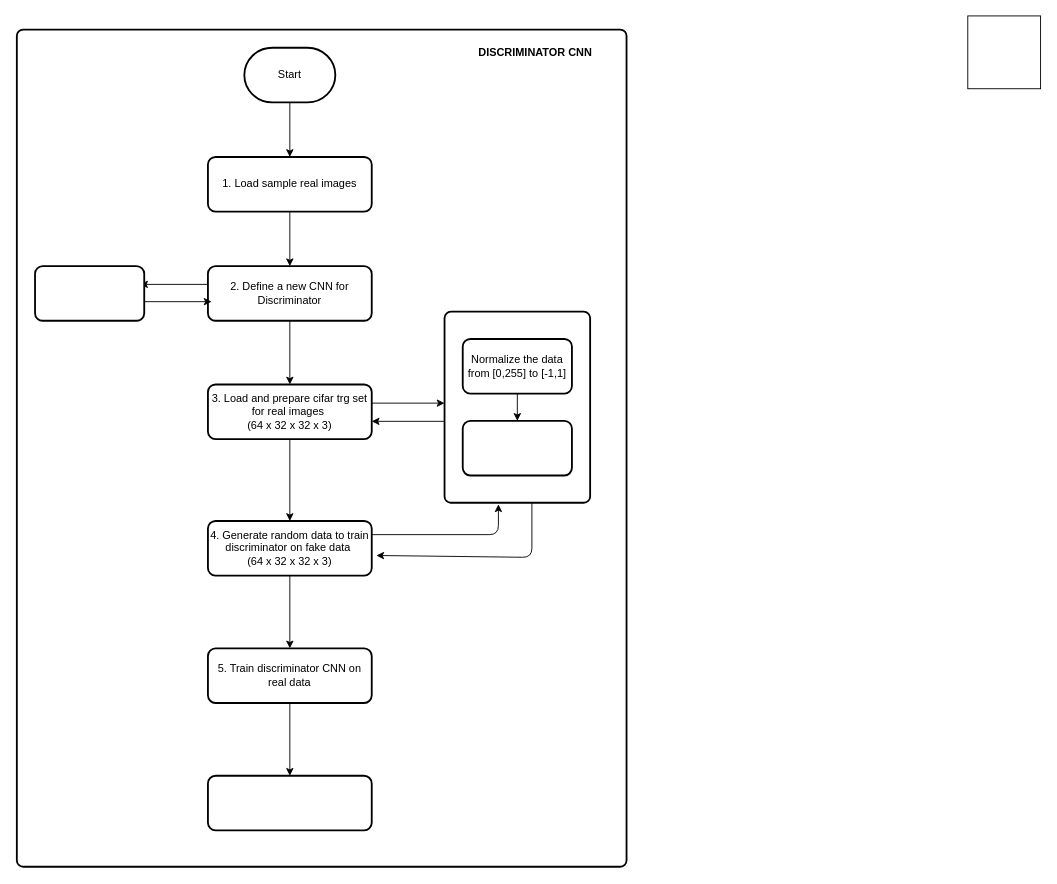
Some shapes in this 1057 by 884 pixel diagram are drawn without their labels. Each missing label, with the centre of its shape:
2.1 Instantiate the model: pixel 89 293
6. Train discriminator CNN on fake data: pixel 289 802
Load trg data in form of x and y for 64 images: pixel 516 448
